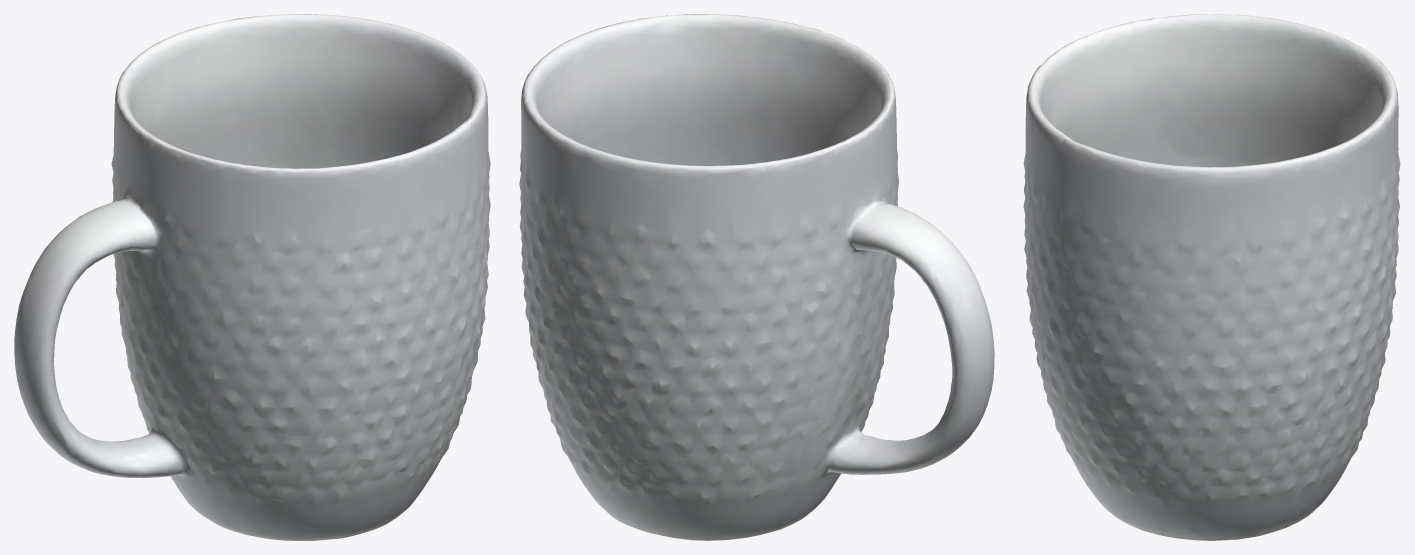
The model's file is Threshold_Porcelain_Coffee_Mug_All_Over_Bead_White.glb.
3 renders of one model, left to right at view 1: azimuth 30°, elevation 25°; view 2: azimuth 150°, elevation 25°; view 3: azimuth 270°, elevation 25°, orthographic.
Visible parts, largest first — view 1: Threshold_Porcelain_Coffee_Mug_All_Over_Bead_White; view 2: Threshold_Porcelain_Coffee_Mug_All_Over_Bead_White; view 3: Threshold_Porcelain_Coffee_Mug_All_Over_Bead_White.
Part boxes in pixels (bbox=[...]): Threshold_Porcelain_Coffee_Mug_All_Over_Bead_White: bbox=[14, 14, 490, 540]; Threshold_Porcelain_Coffee_Mug_All_Over_Bead_White: bbox=[519, 14, 994, 540]; Threshold_Porcelain_Coffee_Mug_All_Over_Bead_White: bbox=[1023, 14, 1400, 540].
Bounding box in the file's own units: 0.1307 × 0.1146 × 0.0965.
Materials: 1 (1 with a texture image).
